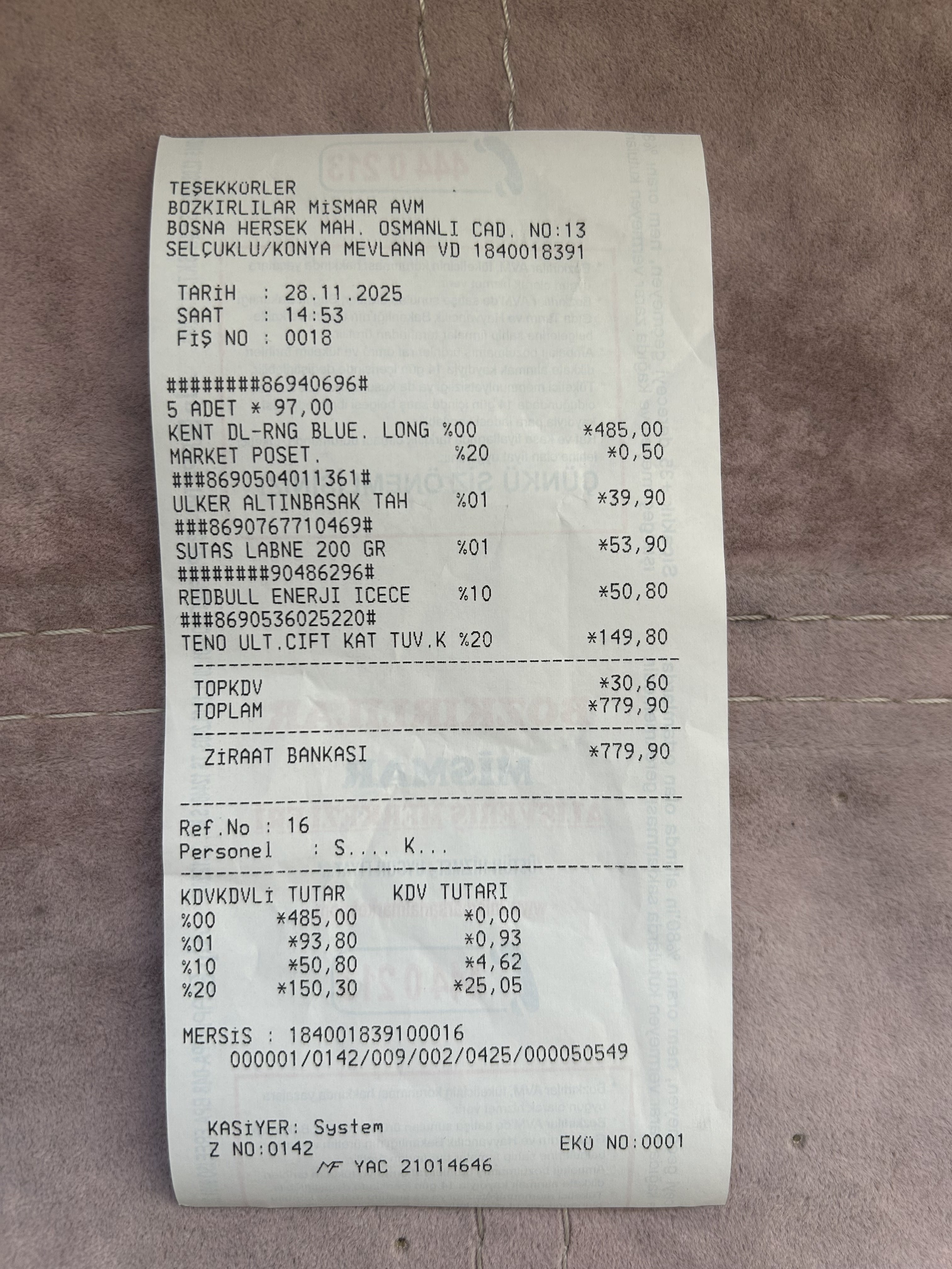date: (279, 278, 408, 305)
price: (593, 693, 681, 720)
workplace: (161, 197, 595, 267)
